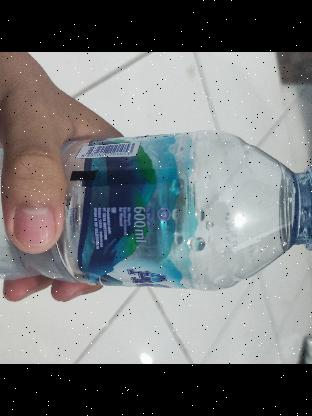Plastic Bottle: (0, 131, 312, 290)
